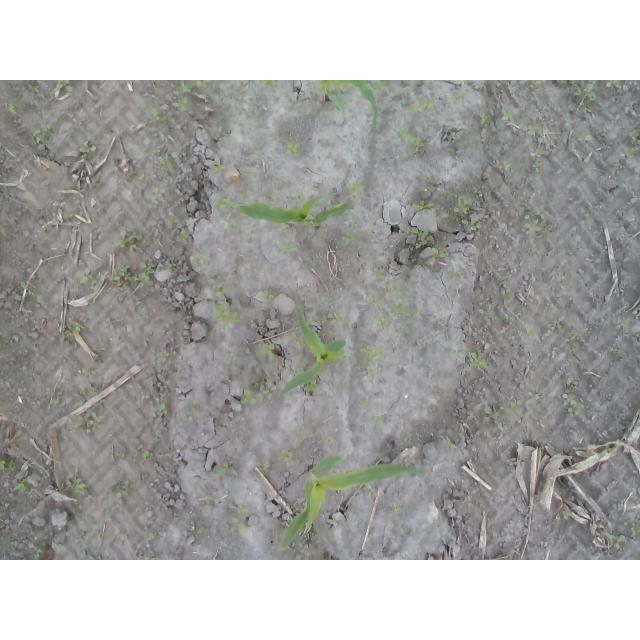Maize: (279, 454, 425, 554), (280, 302, 346, 402), (230, 196, 355, 230), (319, 81, 382, 136), (446, 131, 457, 141)
Weeds: (379, 304, 417, 334), (359, 341, 386, 383), (209, 303, 243, 336), (112, 264, 155, 288), (397, 125, 426, 159), (240, 382, 277, 407), (505, 391, 540, 417), (452, 348, 491, 368), (200, 271, 225, 301), (483, 404, 508, 433), (407, 95, 435, 120), (413, 200, 449, 219), (575, 83, 597, 114), (406, 224, 433, 249), (454, 190, 482, 214), (116, 230, 141, 254), (563, 391, 586, 417), (527, 203, 546, 234), (230, 503, 247, 537), (384, 281, 409, 304), (340, 230, 361, 257), (81, 367, 99, 398), (59, 318, 82, 342), (175, 80, 192, 112), (176, 399, 199, 422), (16, 280, 37, 304), (425, 246, 450, 266), (215, 457, 238, 477), (529, 146, 545, 174), (299, 541, 322, 560), (64, 477, 88, 495), (553, 80, 580, 96), (347, 179, 370, 197), (31, 128, 55, 145), (76, 412, 96, 432), (528, 80, 548, 100), (417, 175, 439, 193), (80, 267, 98, 288), (50, 80, 71, 98), (291, 424, 306, 449), (327, 310, 348, 327), (607, 532, 625, 551), (278, 238, 297, 256), (281, 447, 299, 465), (111, 479, 129, 497), (0, 100, 16, 120), (255, 342, 273, 359), (158, 154, 176, 171), (135, 446, 154, 462), (285, 142, 302, 159), (257, 289, 275, 305), (439, 433, 457, 449), (463, 216, 481, 232), (477, 112, 495, 128), (14, 478, 31, 494), (0, 457, 16, 474), (478, 304, 495, 320), (576, 128, 593, 144), (501, 107, 519, 122), (211, 127, 226, 145), (624, 126, 640, 142), (496, 159, 513, 174), (210, 160, 227, 175), (30, 543, 45, 559), (372, 266, 387, 282), (542, 228, 562, 240), (448, 91, 465, 105), (191, 252, 209, 265), (159, 350, 177, 363), (79, 142, 97, 155), (151, 185, 166, 200), (257, 80, 281, 89), (371, 415, 386, 429), (304, 380, 320, 393), (320, 294, 336, 307), (526, 124, 542, 137), (293, 331, 304, 349), (555, 511, 573, 522), (151, 113, 166, 126), (562, 112, 574, 128), (48, 398, 65, 409), (454, 81, 480, 88), (375, 80, 389, 93), (158, 399, 168, 417), (224, 219, 240, 230), (403, 431, 413, 448), (621, 146, 635, 158), (223, 356, 238, 367), (447, 271, 462, 282), (215, 196, 227, 209), (175, 231, 189, 242), (526, 327, 536, 342), (83, 552, 99, 561), (351, 218, 363, 230), (629, 526, 640, 539), (369, 295, 382, 306), (564, 335, 577, 346), (167, 257, 177, 271), (196, 527, 210, 537), (392, 504, 407, 513), (503, 313, 513, 326), (612, 318, 625, 328), (143, 304, 151, 320), (605, 80, 619, 89), (168, 215, 180, 225), (193, 80, 208, 88), (185, 287, 196, 297), (358, 400, 370, 409), (55, 542, 65, 552), (147, 531, 157, 541), (261, 462, 271, 472), (335, 383, 344, 394), (294, 192, 305, 201), (599, 110, 610, 119), (88, 178, 96, 190), (31, 84, 41, 93), (399, 528, 409, 537), (507, 456, 518, 464), (295, 367, 305, 375), (181, 208, 192, 215), (142, 553, 152, 560), (608, 447, 617, 454), (100, 345, 109, 352)
